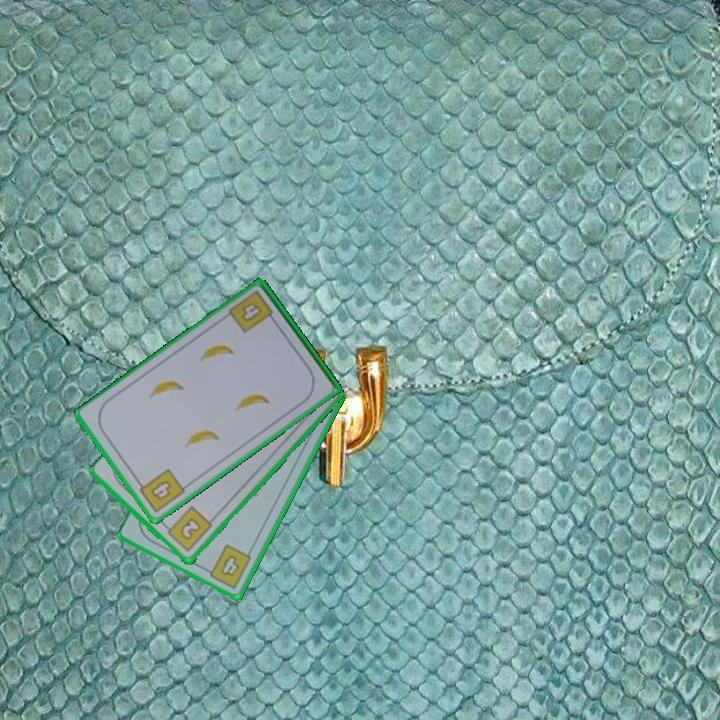2b: (161, 503, 215, 555)
4b: (133, 465, 188, 516), (201, 541, 254, 592), (225, 287, 279, 336)
